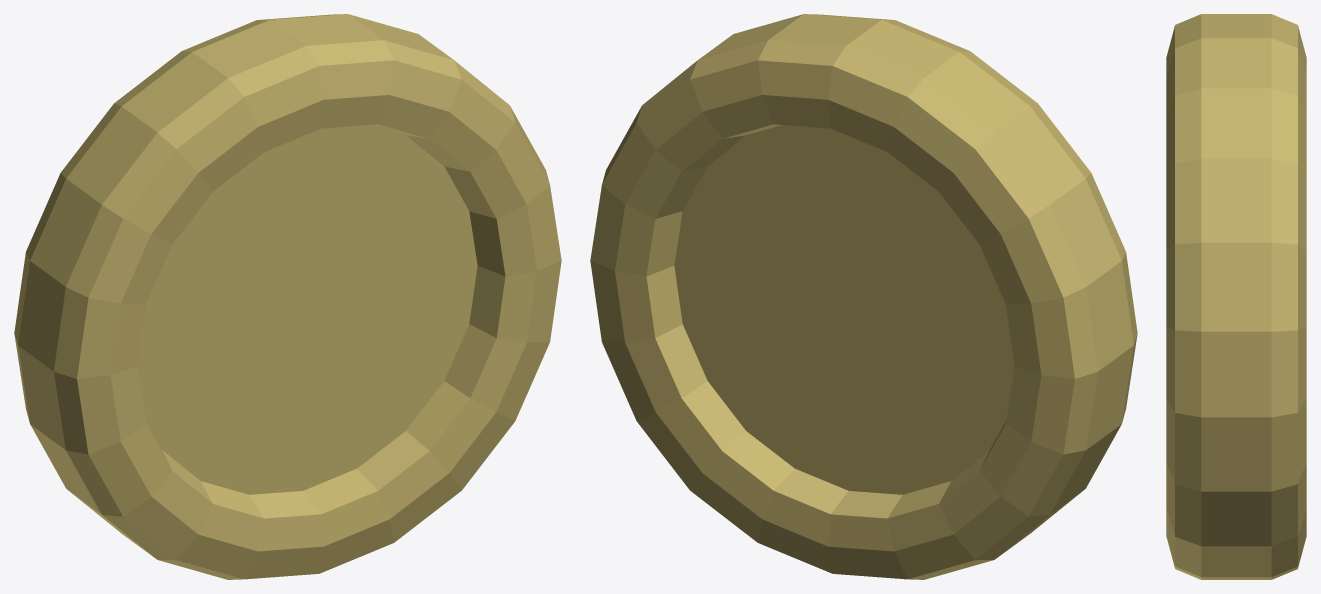
Rendered from SM_Coin.fbx.
3 views of the same model, side by side, from view 1: azimuth 30°, elevation 25°; view 2: azimuth 150°, elevation 25°; view 3: azimuth 270°, elevation 25° (orthographic). The views are drawn at different scales.
Visible parts, largest first — view 1: SM_Coin; view 2: SM_Coin; view 3: SM_Coin.
Part boxes in pixels (x1,y1,x2,y2): SM_Coin: (14,14,561,579); SM_Coin: (590,14,1137,579); SM_Coin: (1166,14,1306,579).
Bounding box in the file's own units: 73.67 × 73.77 × 18.12.
